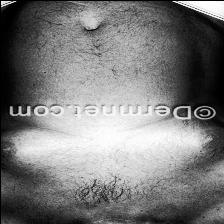Toxin: (0, 7, 220, 102), (151, 122, 209, 188), (0, 125, 40, 200)
